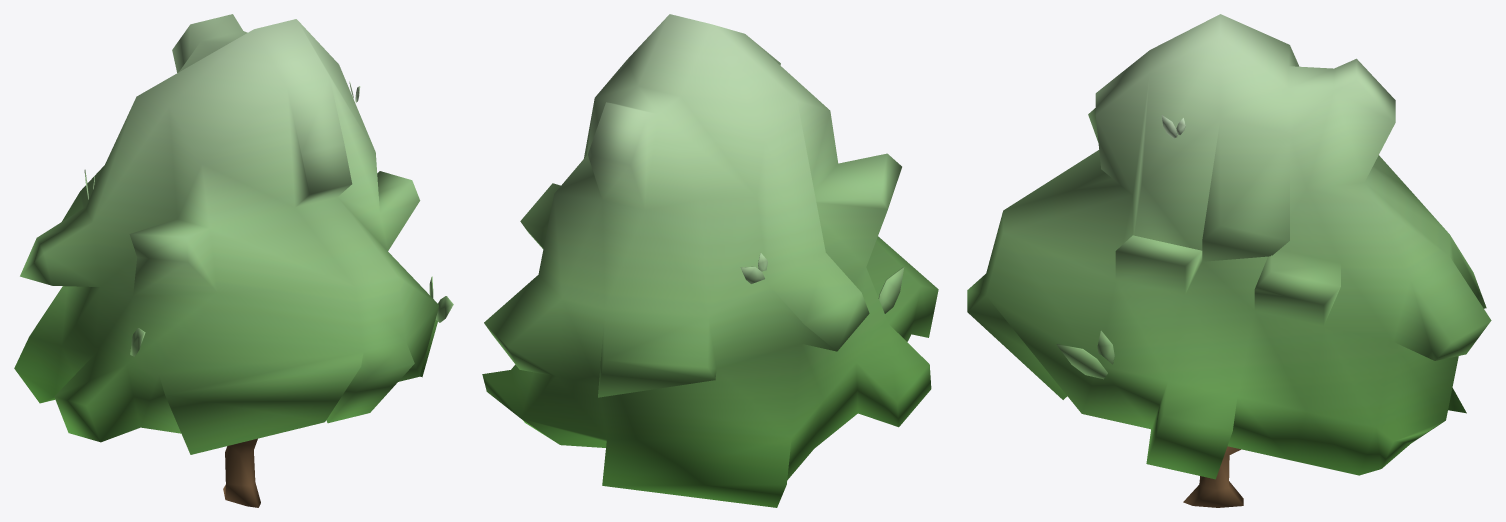
The model's file is Box_Elder.fbx.
3 renders of one model, left to right at view 1: azimuth 30°, elevation 25°; view 2: azimuth 150°, elevation 25°; view 3: azimuth 270°, elevation 25°, orthographic. The views are drawn at different scales.
Parts seen in each view (by area): view 1: BoxElderTree; view 2: BoxElderTree; view 3: BoxElderTree.
Part boxes in pixels (left/top/right/bottom): BoxElderTree: left=14, top=14, right=453, bottom=507; BoxElderTree: left=482, top=14, right=938, bottom=507; BoxElderTree: left=967, top=14, right=1491, bottom=507.
Bounding box in the file's own units: 622 × 776 × 745.
